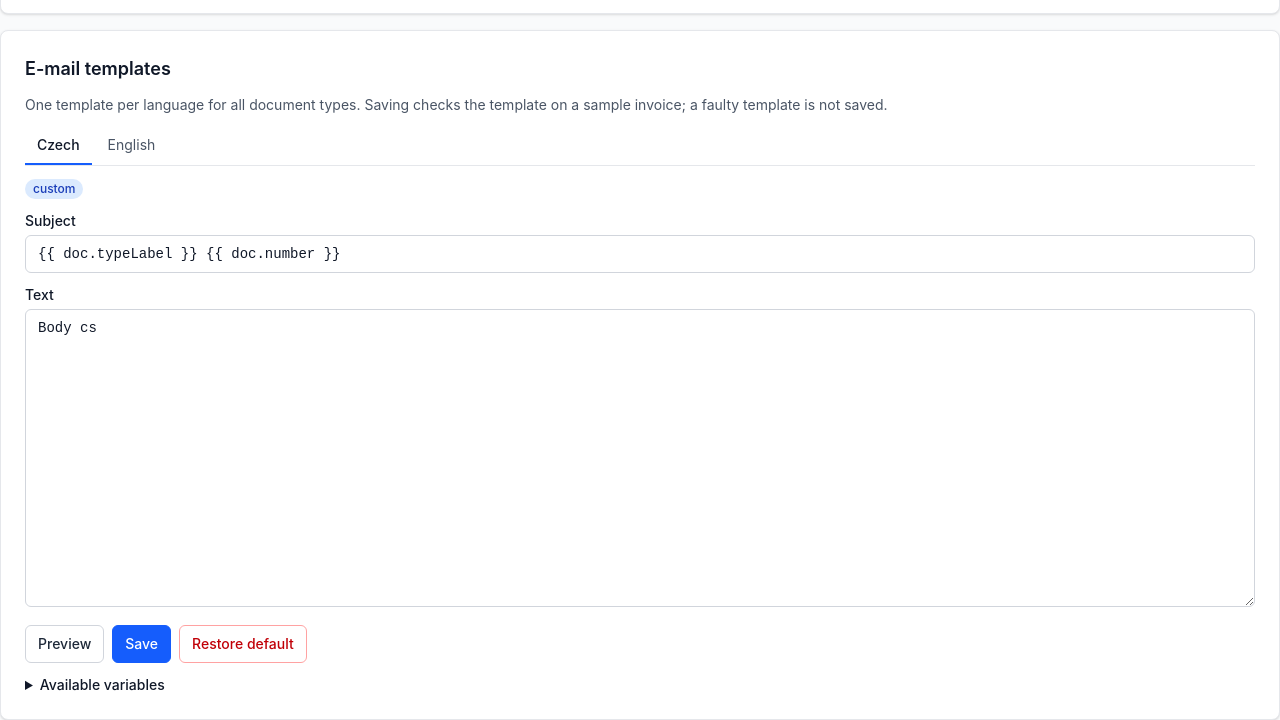
EmailTab › previews the edited text on the sample
The width and height of the screenshot is (1280, 720).
(page scrolled)
Replace the text in the text box labelled "Text" with "X" at (640, 458), box [25,309,1255,607]
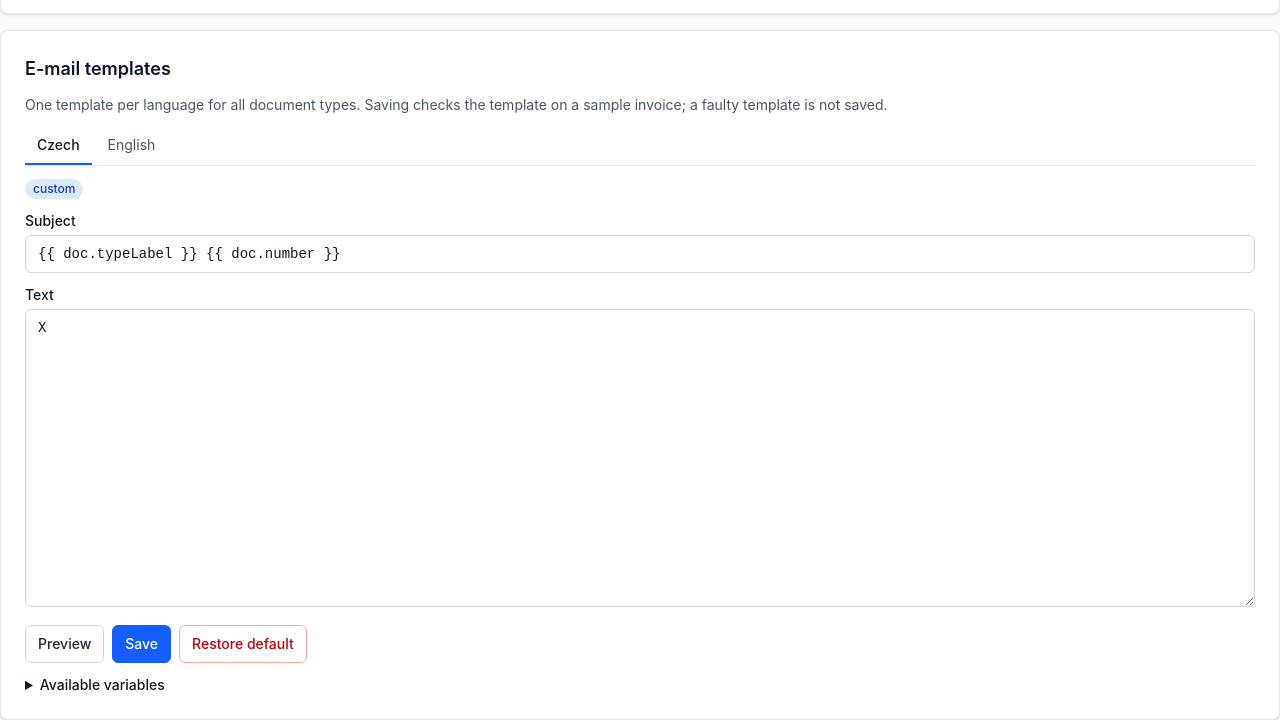
Click the button "Preview" at (65, 644), box [25,625,104,663]
(page scrolled)
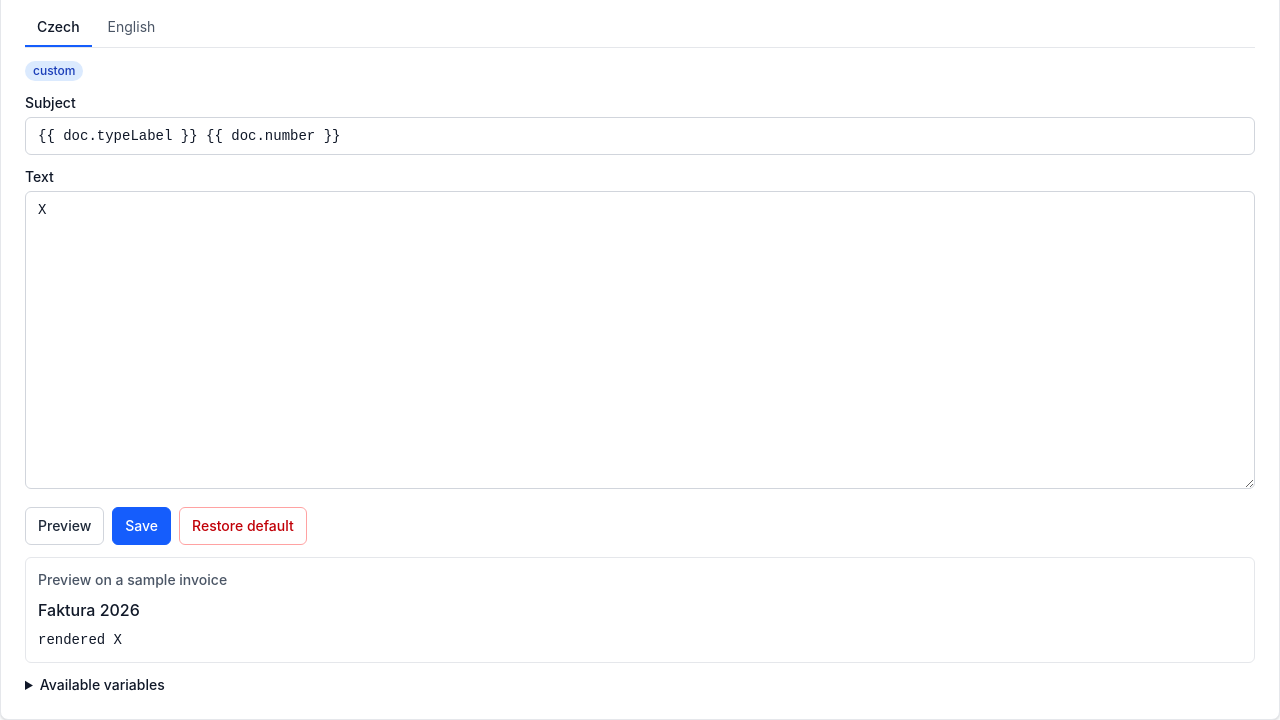
Now the text with test id "rendered-subject" reads "Faktura 2026", box [38,600,140,620]
Now the text with test id "rendered-body" reads "rendered X", box [38,632,122,648]
